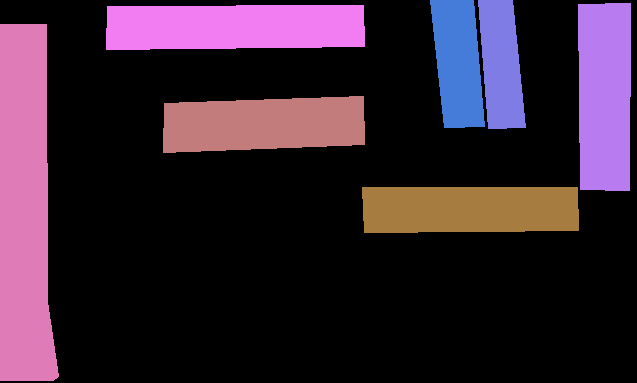parkingspot: (0, 24, 58, 380), (106, 5, 364, 49), (163, 96, 364, 152), (578, 3, 630, 190), (362, 187, 578, 232), (430, 0, 484, 127), (478, 0, 525, 128)
